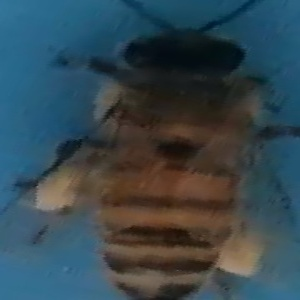bee: (28, 1, 293, 300)
